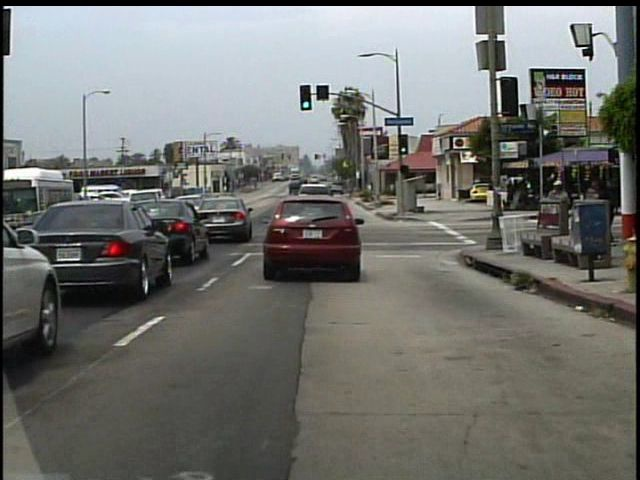person: (542, 174, 571, 252), (595, 178, 614, 245)
